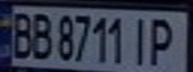1: (106, 14, 130, 65), (90, 12, 112, 63)
7: (72, 11, 93, 63)
8: (51, 11, 75, 62)
B: (6, 8, 36, 61), (27, 9, 54, 61)
I: (127, 14, 154, 66)
P: (145, 13, 184, 69)
